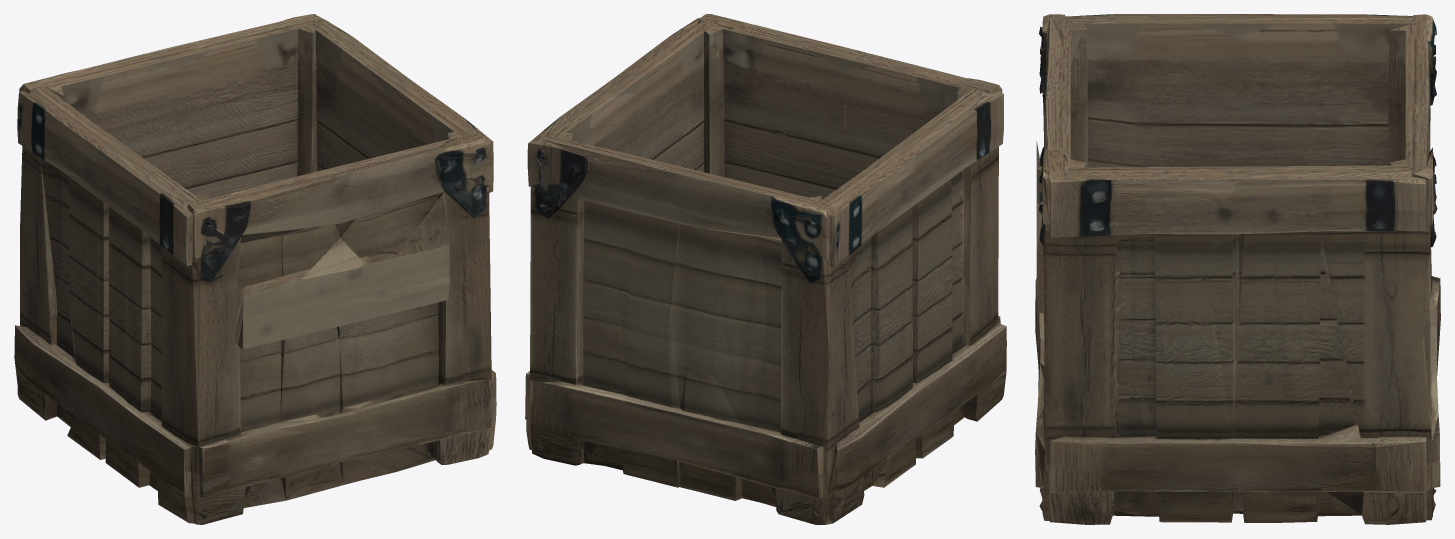
The model's file is a-wooden-supply-crate-with-metal-corner.glb.
3 renders of one model, left to right at view 1: azimuth 30°, elevation 25°; view 2: azimuth 150°, elevation 25°; view 3: azimuth 270°, elevation 25°, orthographic. The views are drawn at different scales.
Size of the model in its own units: 1.9 by 1.81 by 1.9.
1 material, 1 textured.
